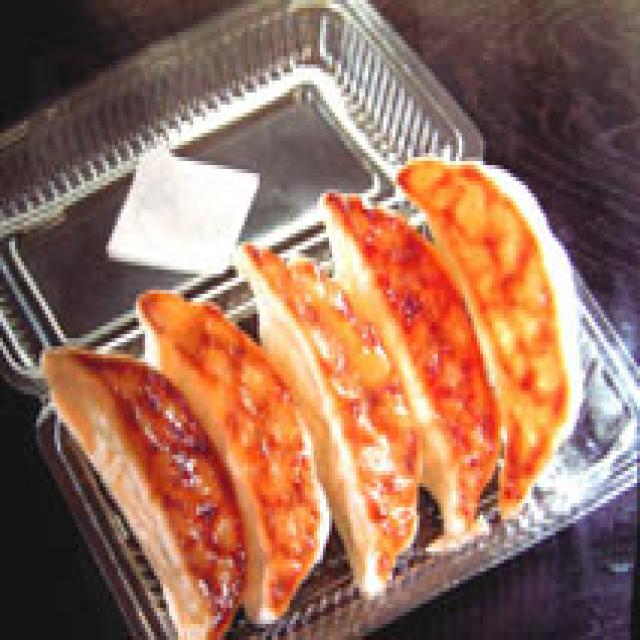带馅早点: (15, 153, 592, 632)
